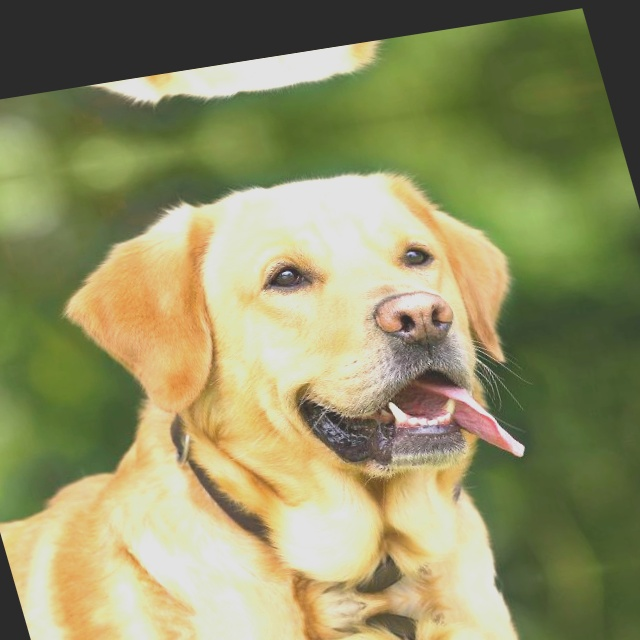dog: (26, 115, 614, 533), (0, 23, 508, 161)
